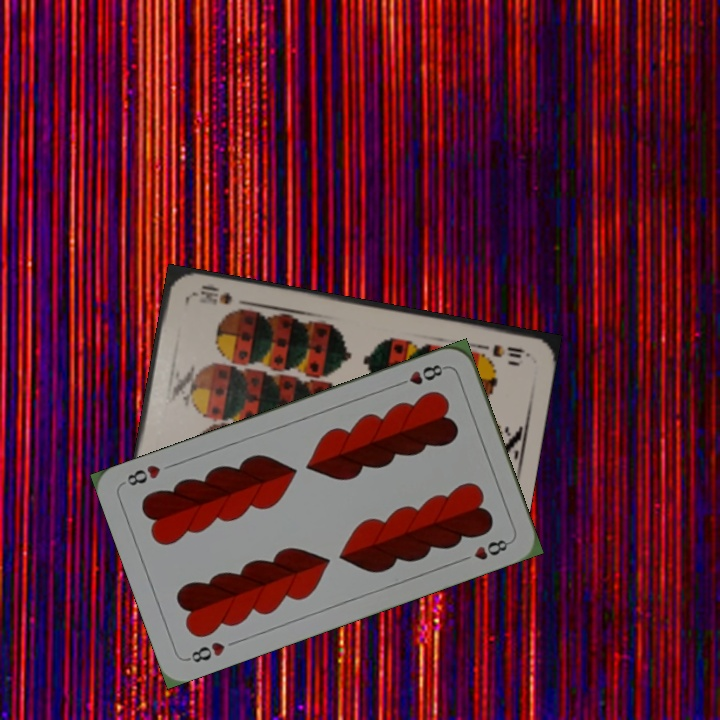H8: (392, 360, 449, 390), (183, 638, 228, 666)
S10: (473, 340, 532, 361)
